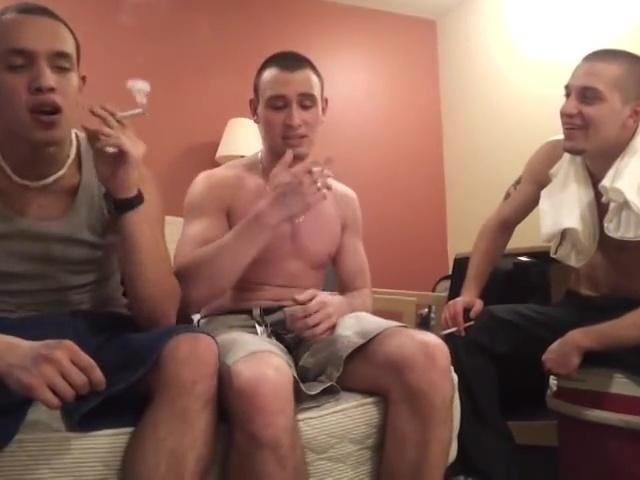cigarette: (439, 317, 480, 337), (115, 107, 153, 123)
